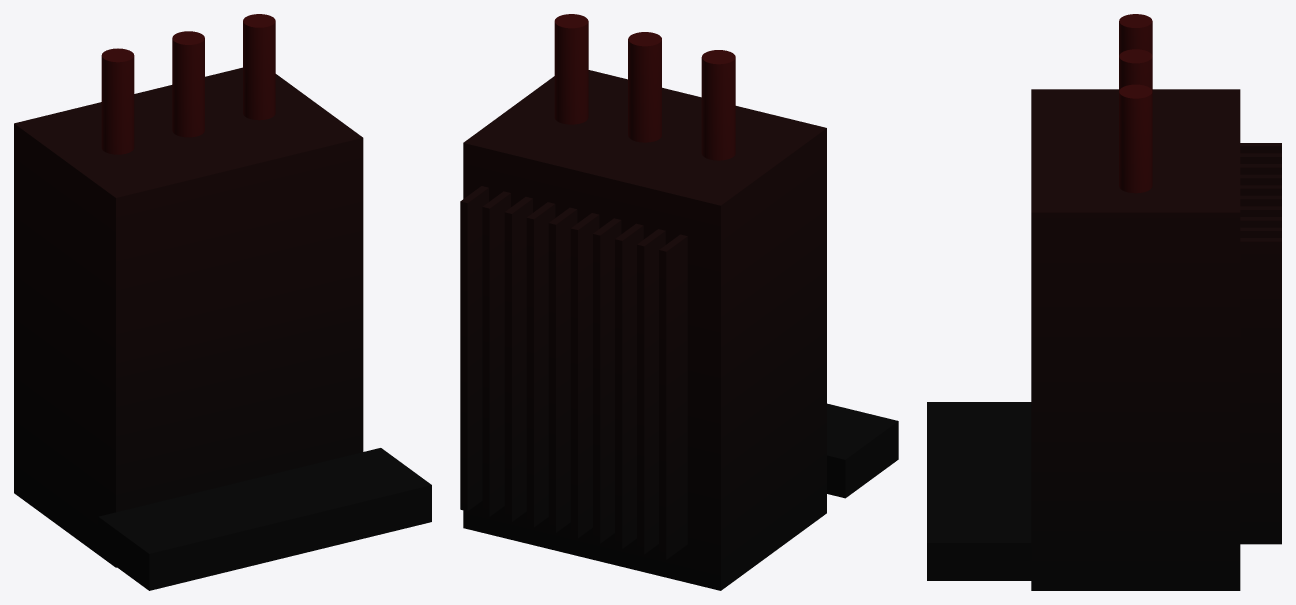
The model's file is may_bien_ap.glb.
3 views of the same model, side by side, from view 1: azimuth 30°, elevation 25°; view 2: azimuth 150°, elevation 25°; view 3: azimuth 270°, elevation 25° (orthographic). The views are drawn at different scales.
Visible parts, largest first — view 1: may_bien_ap; view 2: may_bien_ap; view 3: may_bien_ap.
Part boxes in pixels (x1,y1,x2,y2): may_bien_ap: [14, 14, 431, 590]; may_bien_ap: [460, 14, 898, 590]; may_bien_ap: [927, 14, 1281, 590].
Bounding box in the file's own units: 0.8 × 1.25 × 0.85.
